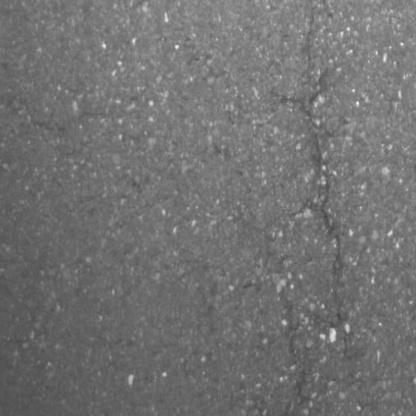Cracks: (266, 0, 355, 363)
